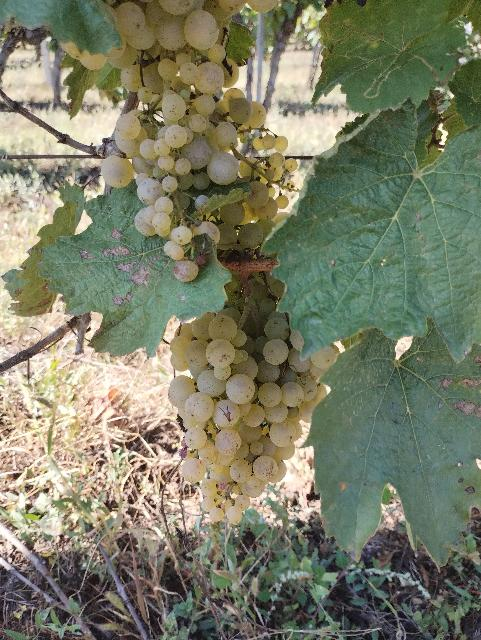grapes: (101, 0, 298, 281), (169, 308, 335, 525)
